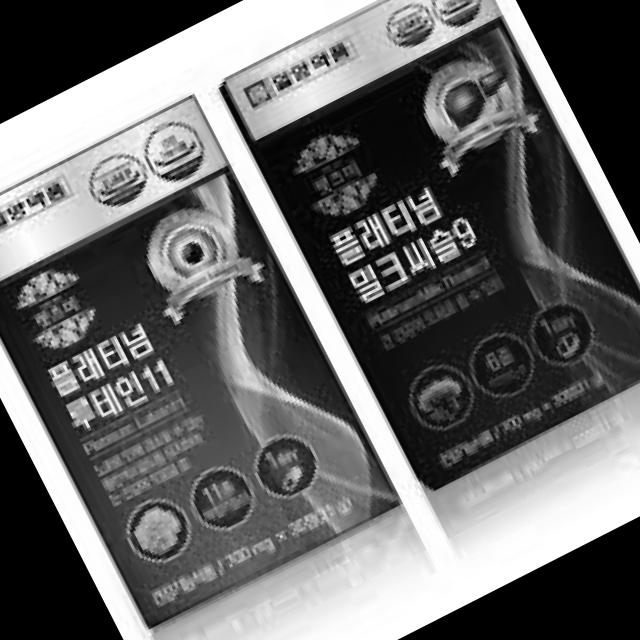GMP: (78, 142, 156, 216)
HEALTHY: (134, 106, 218, 192), (378, 0, 443, 57), (425, 0, 490, 35)
